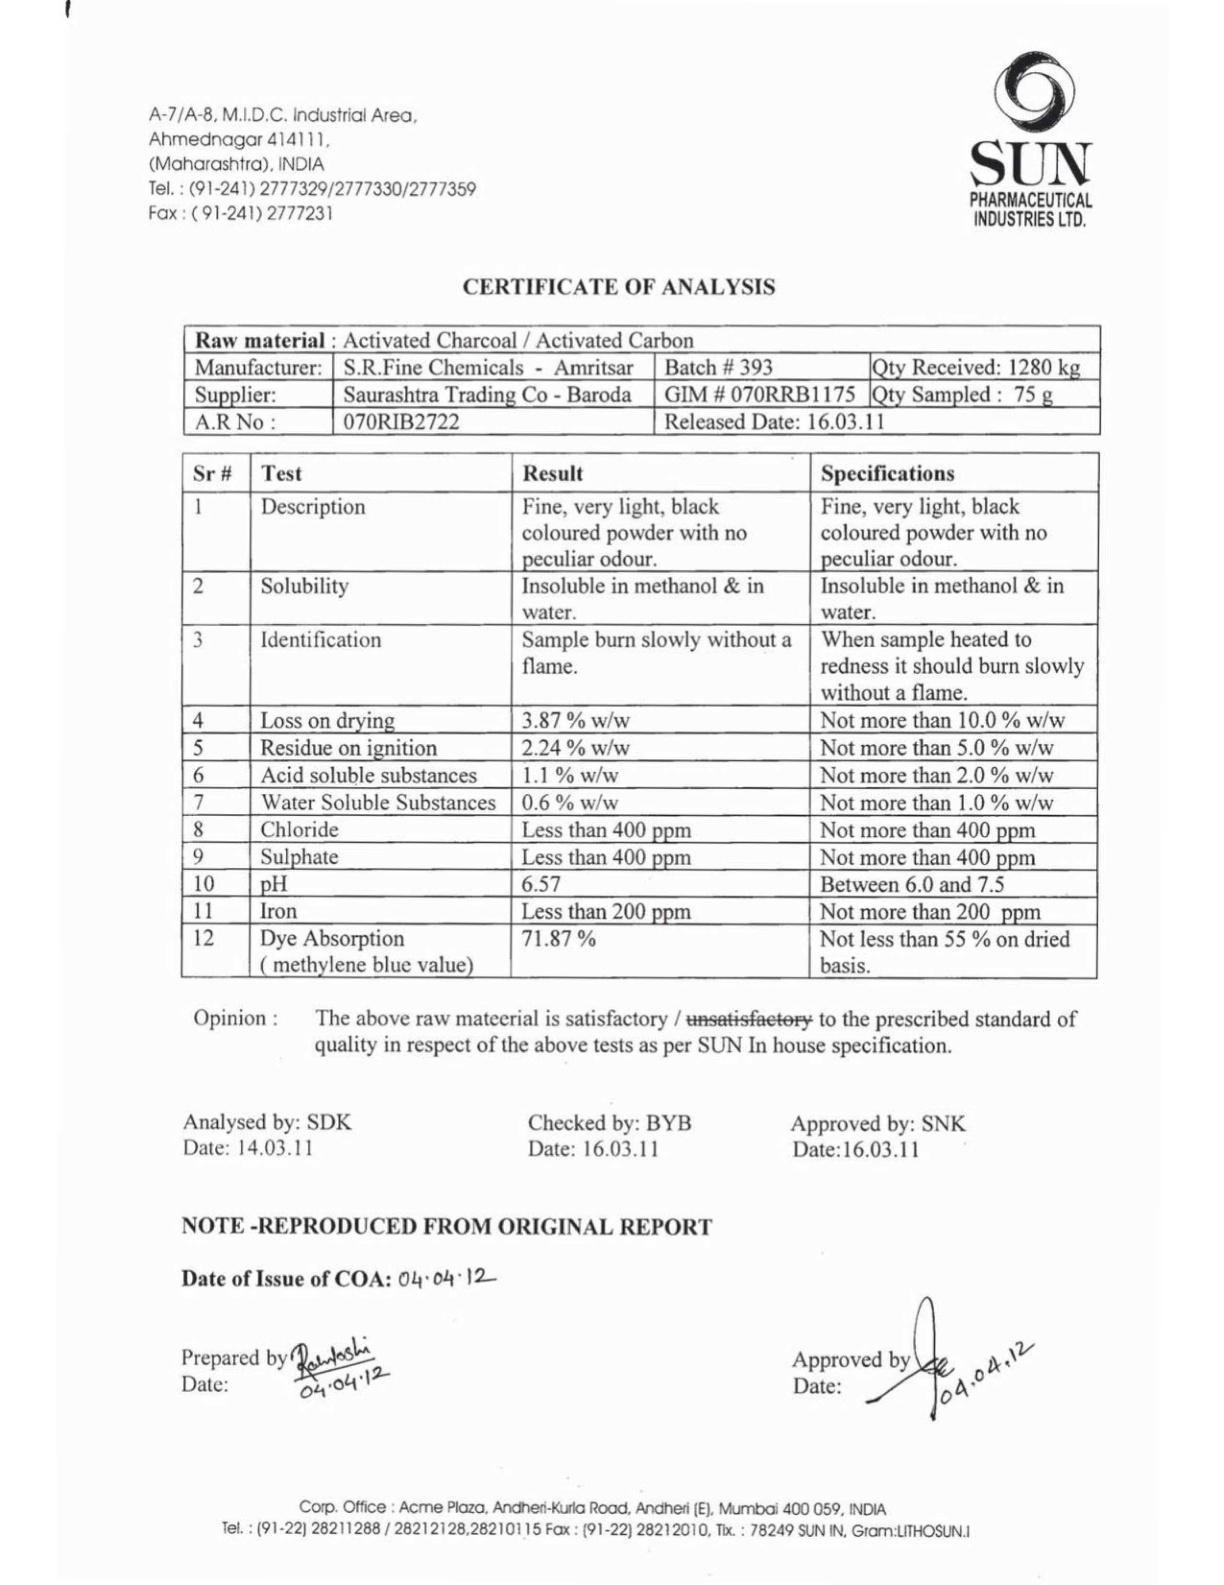full_lined: (180, 451, 1099, 980)
merged_cells: (183, 324, 1103, 436)
